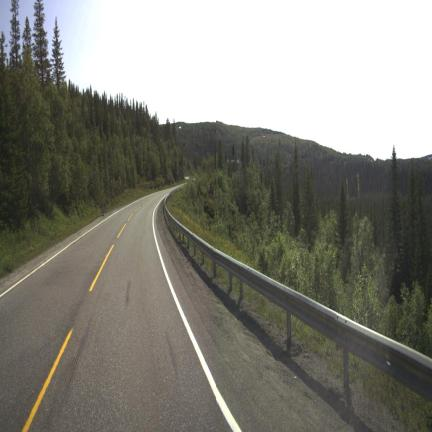Road: (0, 191, 373, 430)
